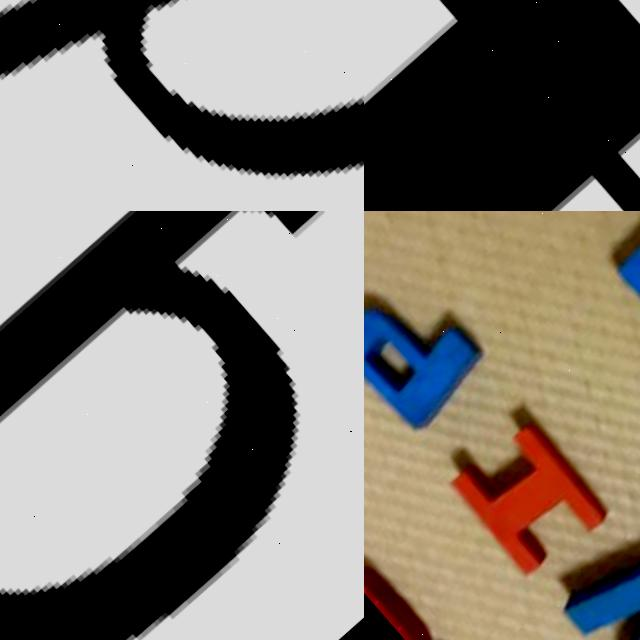D: (0, 0, 364, 211)
I: (444, 412, 626, 588)
P: (364, 266, 504, 438)
Q: (0, 211, 364, 640)
V: (563, 534, 640, 640)
